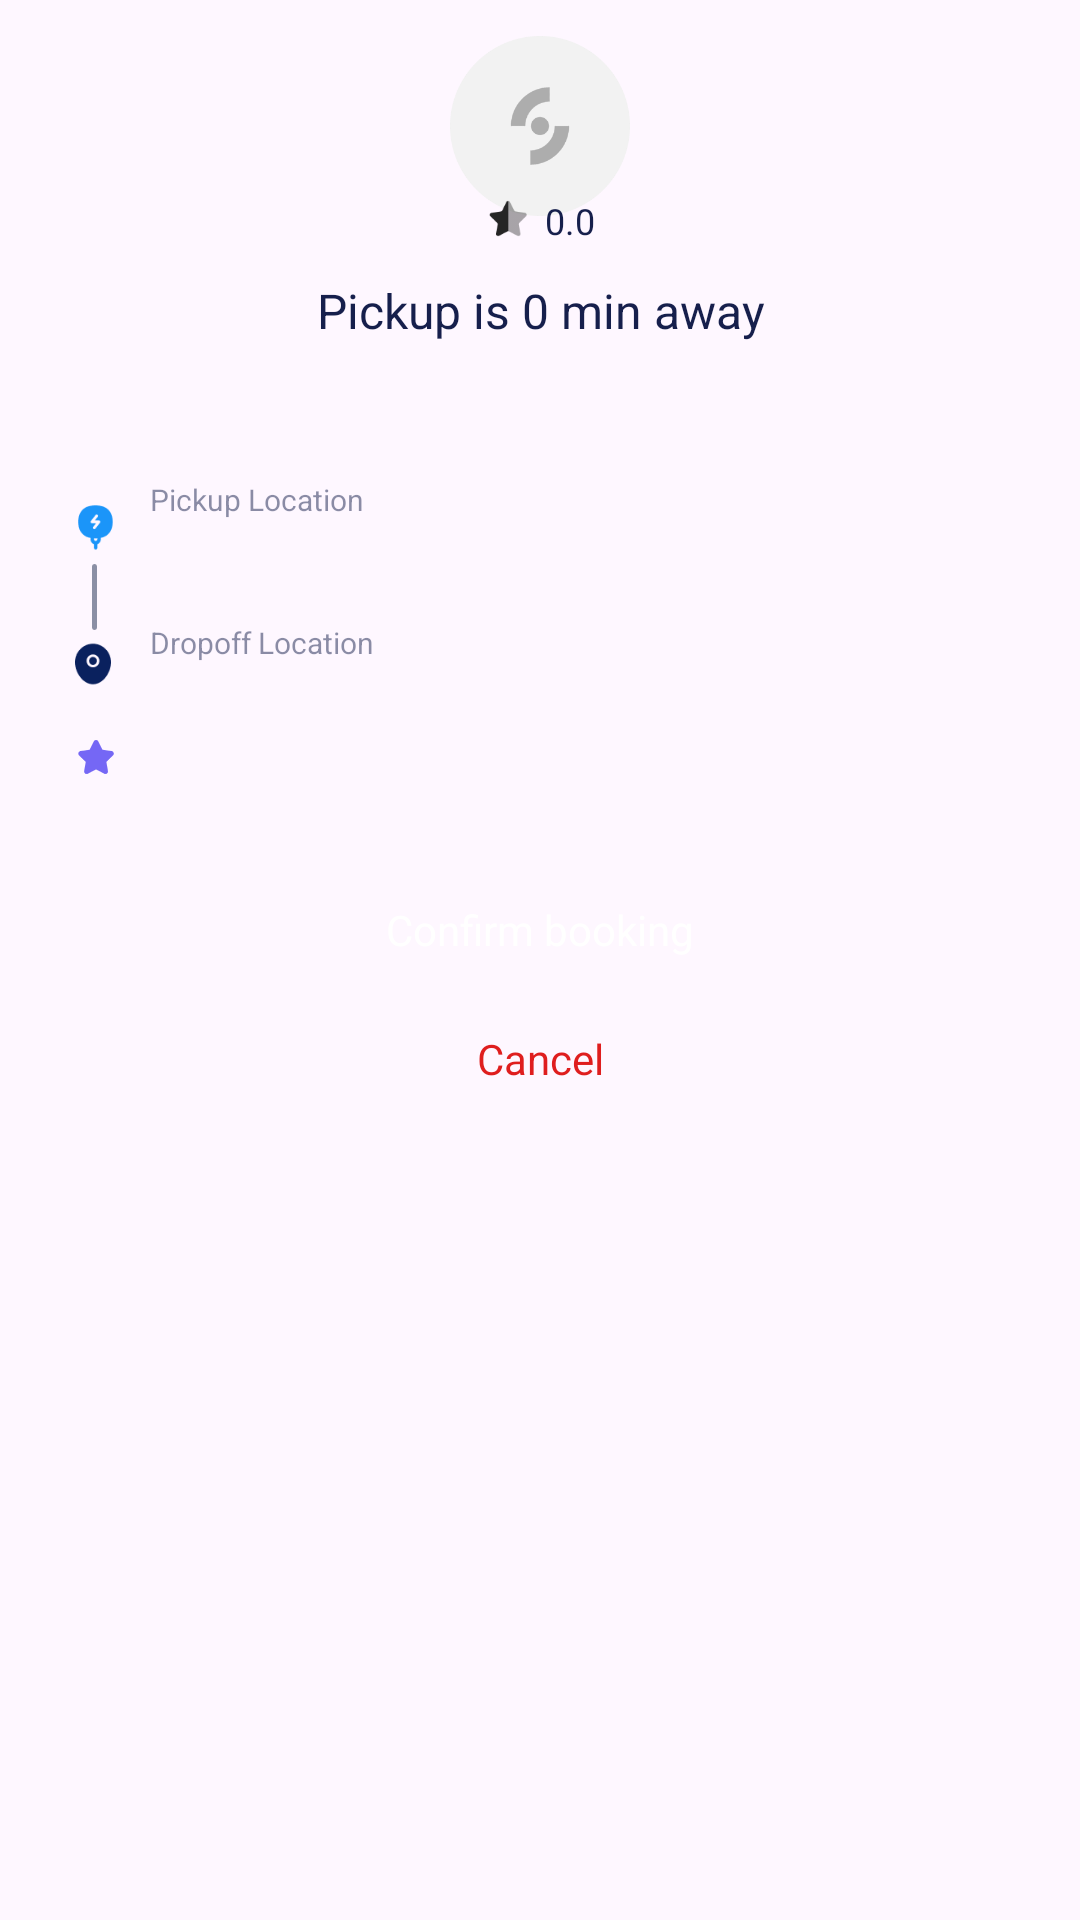

Locate icon controls on the screen. Image size 1080 x 1920, boxes as region(x1, y1, x2, y2).
drop location pin: region(75, 643, 111, 685)
location pin: region(78, 505, 113, 550)
star: region(78, 740, 114, 774)
